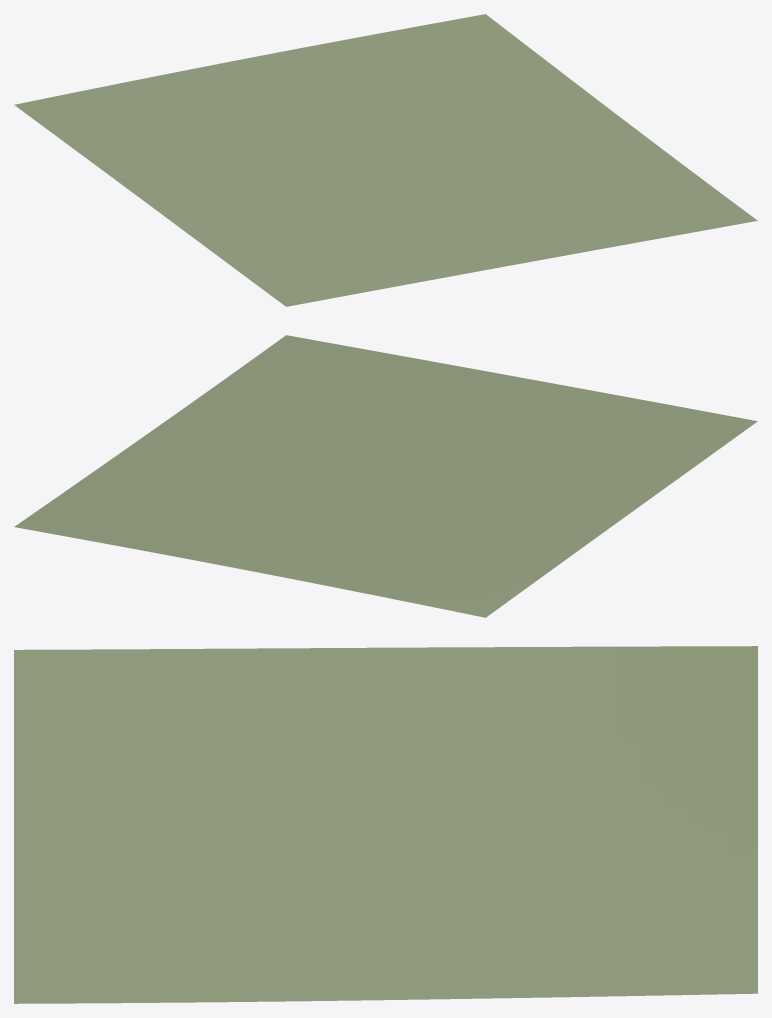
File: desert-1-21.glb
3 renders of one model, top to bottom at view 1: azimuth 30°, elevation 25°; view 2: azimuth 150°, elevation 25°; view 3: azimuth 270°, elevation 25°, orthographic. The views are drawn at different scales.
Parts seen in each view (by area): view 1: desert-1-21; view 2: desert-1-21; view 3: desert-1-21.
Boxes of the visible parts, box(x1,y1,x2,y2) form: desert-1-21: box(14, 14, 757, 306); desert-1-21: box(14, 335, 757, 617); desert-1-21: box(14, 646, 757, 1003).
Bounding box in the file's own units: 512 × 32.87 × 512.
